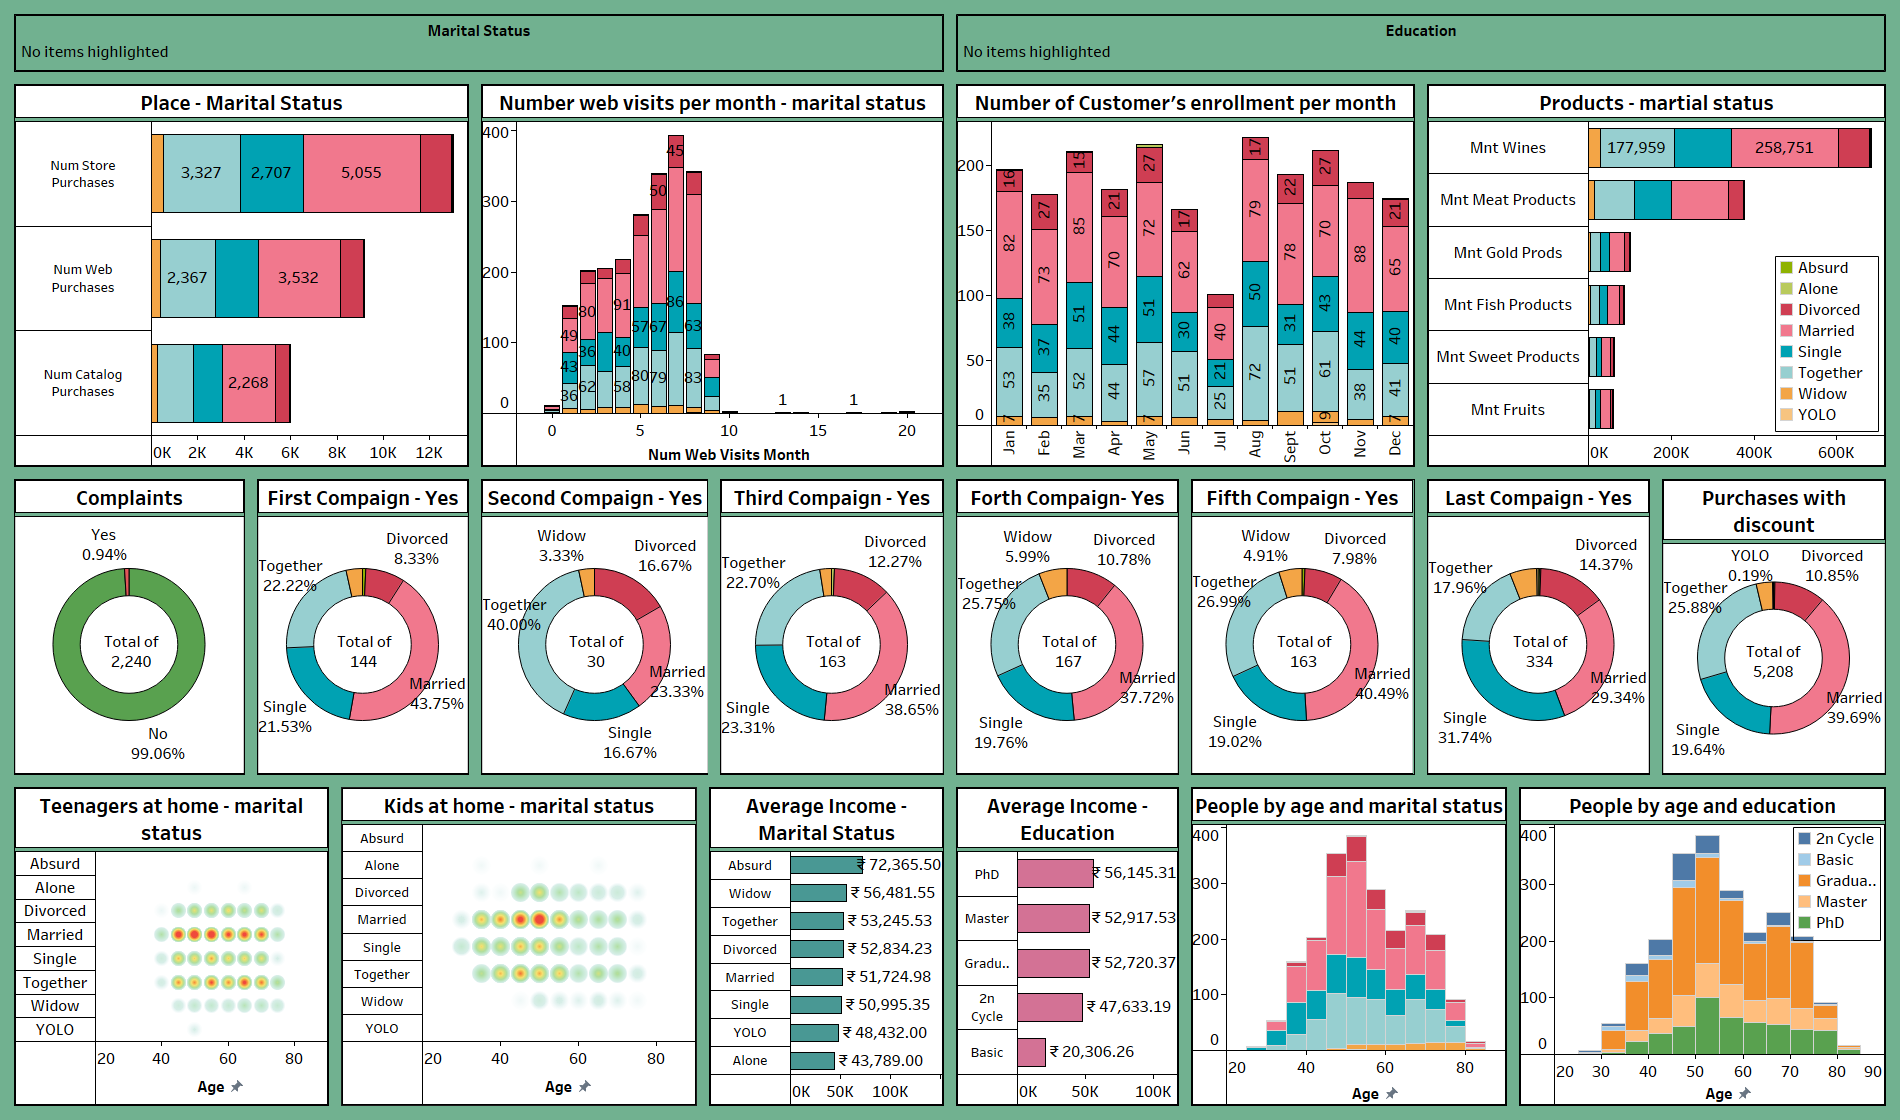

Layout of this report page (visuals, bound fields, positions):
{"tool":"tableau","page":{"name":"Dashboard 1","canvas":[1900,1120],"ordinal":0},"visuals":[{"type":"highlighter","title":"Place - Marital Status","param":"[federated.0h58z0o0gkeoda12wylpw0sbej8f].[none:Marital_Status:nk]","box":[8,8,942,69.9]},{"type":"highlighter","title":"People by age and education","param":"[federated.0h58z0o0gkeoda12wylpw0sbej8f].[none:Education:nk]","box":[950,8,942,69.9]},{"type":"worksheet","title":"Place - Marital Status","mark":"Automatic","box":[8,77.9,466.7,395.2]},{"type":"worksheet","title":"Number web visits per month - marital status","mark":"Bar","rows":["ID"],"cols":["NumWebVisitsMonth"],"box":[474.7,77.9,475.2,395.2]},{"type":"worksheet","title":"Number of Customer's enrollment per month","mark":"Bar","rows":["ID"],"cols":["Dt_Customer"],"box":[950,77.9,471,395.2]},{"type":"worksheet","title":"Products - martial status","mark":"Bar","box":[1420.9,77.9,471.1,395.2]},{"type":"legend","title":"People by age and marital status","param":"[federated.0h58z0o0gkeoda12wylpw0sbej8f].[none:Marital_Status:nk]","box":[1775,256,104,176]},{"type":"worksheet","title":"Complaints","mark":"Pie","rows":["Calculation_889179487803854851","Calculation_889179487803854851"],"box":[8,473.1,242.9,307.9]},{"type":"worksheet","title":"First Compaign - Yes","mark":"Pie","rows":["Calculation_889179487803854851","Calculation_889179487803854851"],"box":[250.9,473.1,223.9,307.9]},{"type":"worksheet","title":"Second Compaign - Yes","mark":"Pie","rows":["Calculation_889179487803854851","Calculation_889179487803854851"],"box":[474.7,473.1,239.6,307.9]},{"type":"worksheet","title":"Third Compaign - Yes","mark":"Pie","rows":["Calculation_889179487803854851","Calculation_889179487803854851"],"box":[714.4,473.1,235.6,307.9]},{"type":"worksheet","title":"Forth Compaign- Yes","mark":"Pie","rows":["Calculation_889179487803854851","Calculation_889179487803854851"],"box":[950,473.1,235.5,307.9]},{"type":"worksheet","title":"Fifth Compaign - Yes","mark":"Pie","rows":["Calculation_889179487803854851","Calculation_889179487803854851"],"box":[1185.4,473.1,235.5,307.9]},{"type":"worksheet","title":"Last Compaign - Yes","mark":"Pie","rows":["Calculation_889179487803854851","Calculation_889179487803854851"],"box":[1420.9,473.1,235.5,307.9]},{"type":"worksheet","title":"Purchases with discount","mark":"Pie","rows":["Calculation_889179487803854851","Calculation_889179487803854851"],"box":[1656.4,473.1,235.6,307.9]},{"type":"worksheet","title":"Teenagers at home - marital status","mark":"Heatmap","rows":["Marital_Status"],"cols":["Age (bin)"],"box":[8,781,327,331]},{"type":"worksheet","title":"Kids at home - marital status","mark":"Heatmap","rows":["Marital_Status"],"cols":["Age (bin)"],"box":[335,781,368,331]},{"type":"worksheet","title":"Average Income - Marital Status","mark":"Bar","rows":["Marital_Status"],"cols":["Income"],"box":[703,781,247,331]},{"type":"worksheet","title":"Average Income - Education","mark":"Bar","rows":["Education"],"cols":["Income"],"box":[950,781,235.5,331]},{"type":"worksheet","title":"People by age and marital status","mark":"Automatic","rows":["Calculation_935622859022913536"],"cols":["Age (bin)"],"box":[1185.4,781,327.6,331]},{"type":"worksheet","title":"People by age and education","mark":"Automatic","rows":["Calculation_935622859022913536"],"cols":["Age (bin)"],"box":[1513,781,379,331]},{"type":"legend","title":"People by age and education","param":"[federated.0h58z0o0gkeoda12wylpw0sbej8f].[none:Education:nk]","box":[1793,827,88,114]}]}

Visuals, with their boxes in screenshot pixels (x1, y1, x2, y2), scaled from the page's 1900x1120 canvas onto the 1900x1120 screenshot:
"Place - Marital Status" highlighter: bbox=[8, 8, 950, 78]
"People by age and education" highlighter: bbox=[950, 8, 1892, 78]
"Place - Marital Status" worksheet: bbox=[8, 78, 475, 473]
"Number web visits per month - marital status" worksheet (Bar marks): bbox=[475, 78, 950, 473]
"Number of Customer's enrollment per month" worksheet (Bar marks): bbox=[950, 78, 1421, 473]
"Products - martial status" worksheet (Bar marks): bbox=[1421, 78, 1892, 473]
"People by age and marital status" legend: bbox=[1775, 256, 1879, 432]
"Complaints" worksheet (Pie marks): bbox=[8, 473, 251, 781]
"First Compaign - Yes" worksheet (Pie marks): bbox=[251, 473, 475, 781]
"Second Compaign - Yes" worksheet (Pie marks): bbox=[475, 473, 714, 781]
"Third Compaign - Yes" worksheet (Pie marks): bbox=[714, 473, 950, 781]
"Forth Compaign- Yes" worksheet (Pie marks): bbox=[950, 473, 1186, 781]
"Fifth Compaign - Yes" worksheet (Pie marks): bbox=[1185, 473, 1421, 781]
"Last Compaign - Yes" worksheet (Pie marks): bbox=[1421, 473, 1656, 781]
"Purchases with discount" worksheet (Pie marks): bbox=[1656, 473, 1892, 781]
"Teenagers at home - marital status" worksheet (Heatmap marks): bbox=[8, 781, 335, 1112]
"Kids at home - marital status" worksheet (Heatmap marks): bbox=[335, 781, 703, 1112]
"Average Income - Marital Status" worksheet (Bar marks): bbox=[703, 781, 950, 1112]
"Average Income - Education" worksheet (Bar marks): bbox=[950, 781, 1186, 1112]
"People by age and marital status" worksheet: bbox=[1185, 781, 1513, 1112]
"People by age and education" worksheet: bbox=[1513, 781, 1892, 1112]
"People by age and education" legend: bbox=[1793, 827, 1881, 941]
